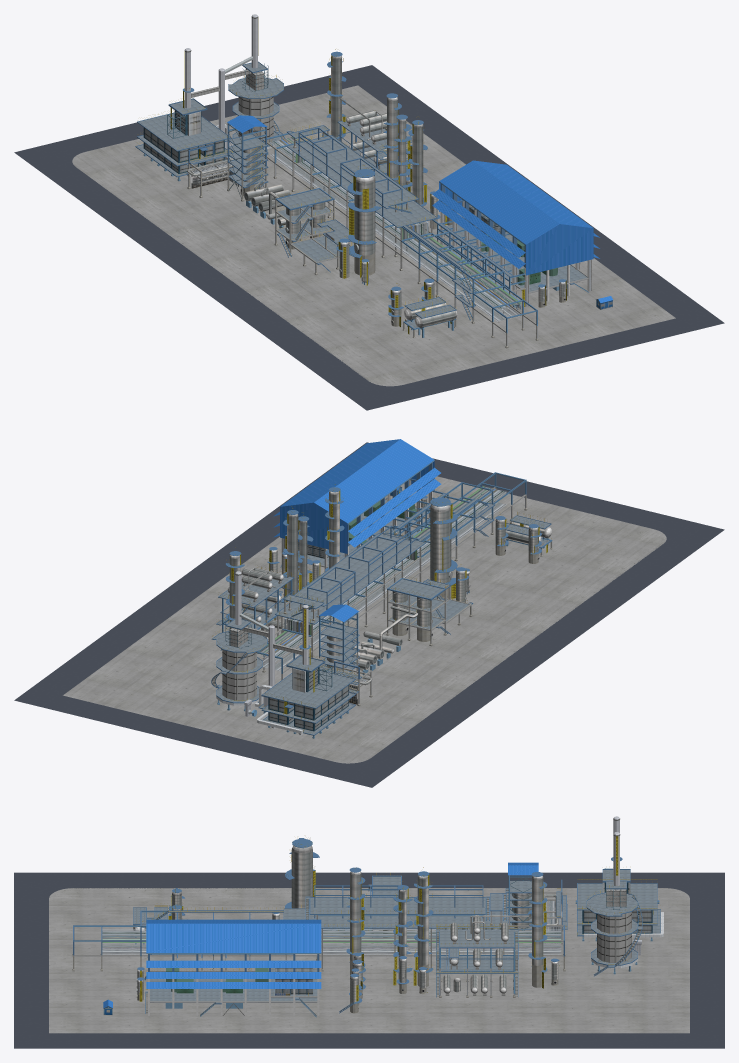
Rendered from meshlab.dae.
3 views of the same model, one above another, from view 1: azimuth 30°, elevation 25°; view 2: azimuth 150°, elevation 25°; view 3: azimuth 270°, elevation 25° (orthographic).
Visible parts, largest first — view 1: node; view 2: node; view 3: node.
Boxes of the visible parts, x1,y1,x2,y2 form: node: (14, 14, 724, 410); node: (14, 439, 724, 787); node: (14, 816, 724, 1048).
Size of the model in its own units: 103 by 36.31 by 176.
46 materials, 46 textured.
